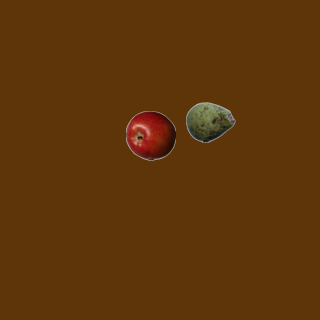Apple Braeburn: (125, 110, 175, 160)
Pear Stone: (185, 97, 235, 147)
